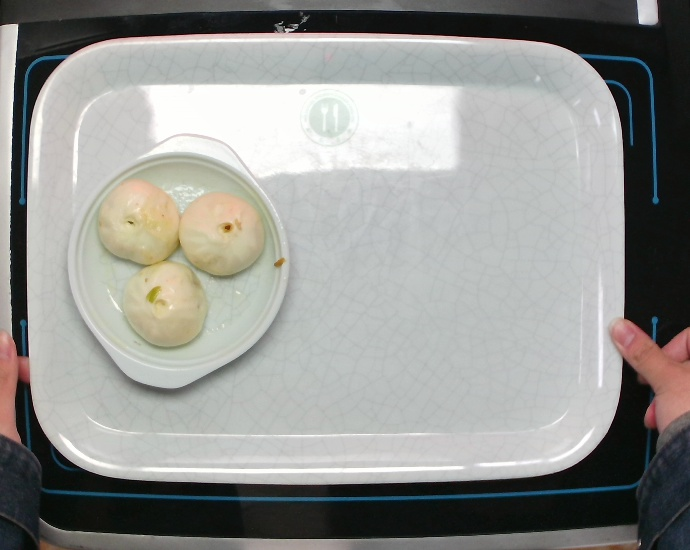JYsf-Shuang_Er_Pan: (58, 129, 295, 397)
